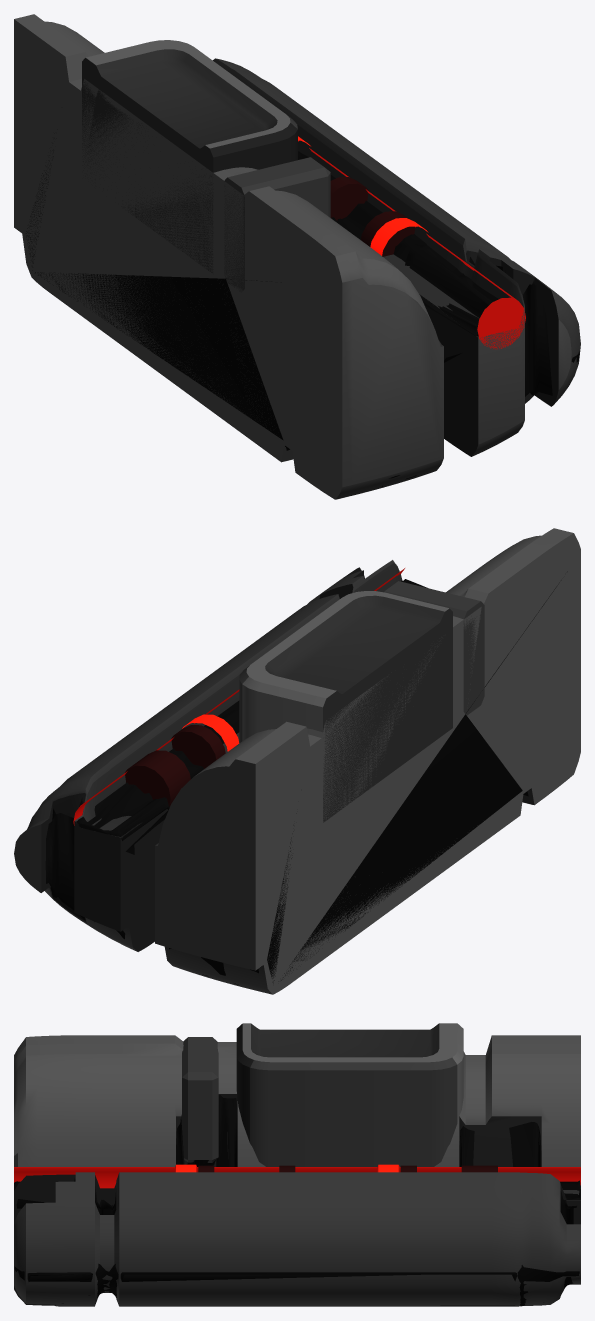
Rendered from newshl-41.glb.
The picture shows the model from 3 angles, top to bottom: view 1: azimuth 30°, elevation 25°; view 2: azimuth 150°, elevation 25°; view 3: azimuth 270°, elevation 25°; orthographic projection. The views are drawn at different scales.
Parts seen in each view (by area): view 1: newshl-41, newshl-41_outline; view 2: newshl-41, newshl-41_outline; view 3: newshl-41, newshl-41_outline.
Boxes of the visible parts, x1=… form: newshl-41: x1=14, y1=14, x2=580, y2=499; newshl-41_outline: x1=26, y1=129, x2=579, y2=486; newshl-41: x1=14, y1=528, x2=580, y2=994; newshl-41_outline: x1=45, y1=571, x2=567, y2=985; newshl-41: x1=14, y1=1023, x2=580, y2=1306; newshl-41_outline: x1=14, y1=1095, x2=580, y2=1306.
Bounding box in the file's own units: 1.01 × 1.03 × 2.33.
